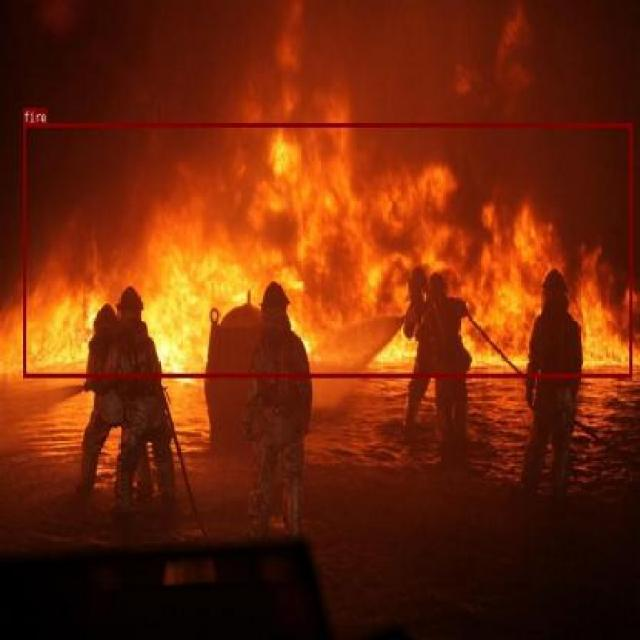fire: (23, 123, 632, 377)
